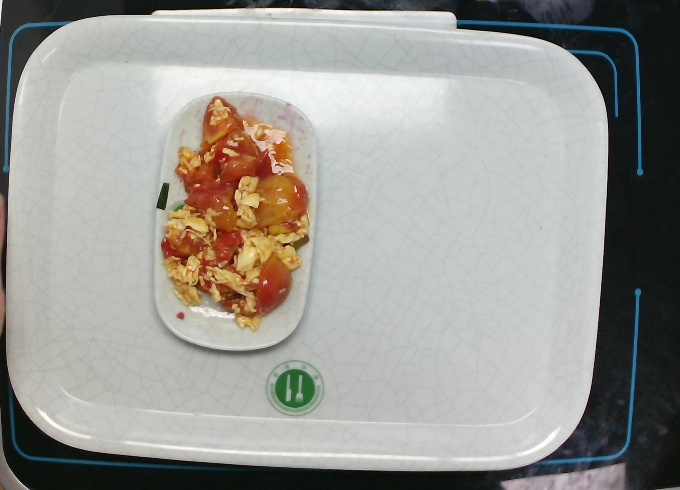WCQzf-Tuo_Yuan_Pan: (151, 90, 319, 352)
